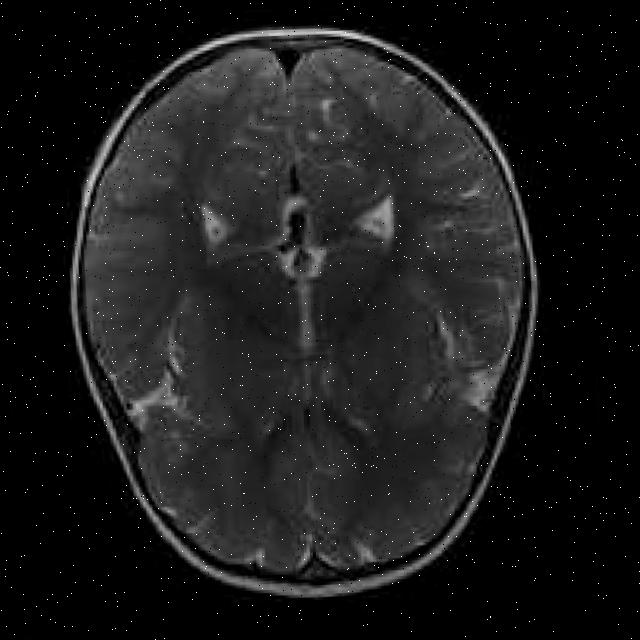NoTumor: (65, 26, 551, 594)
